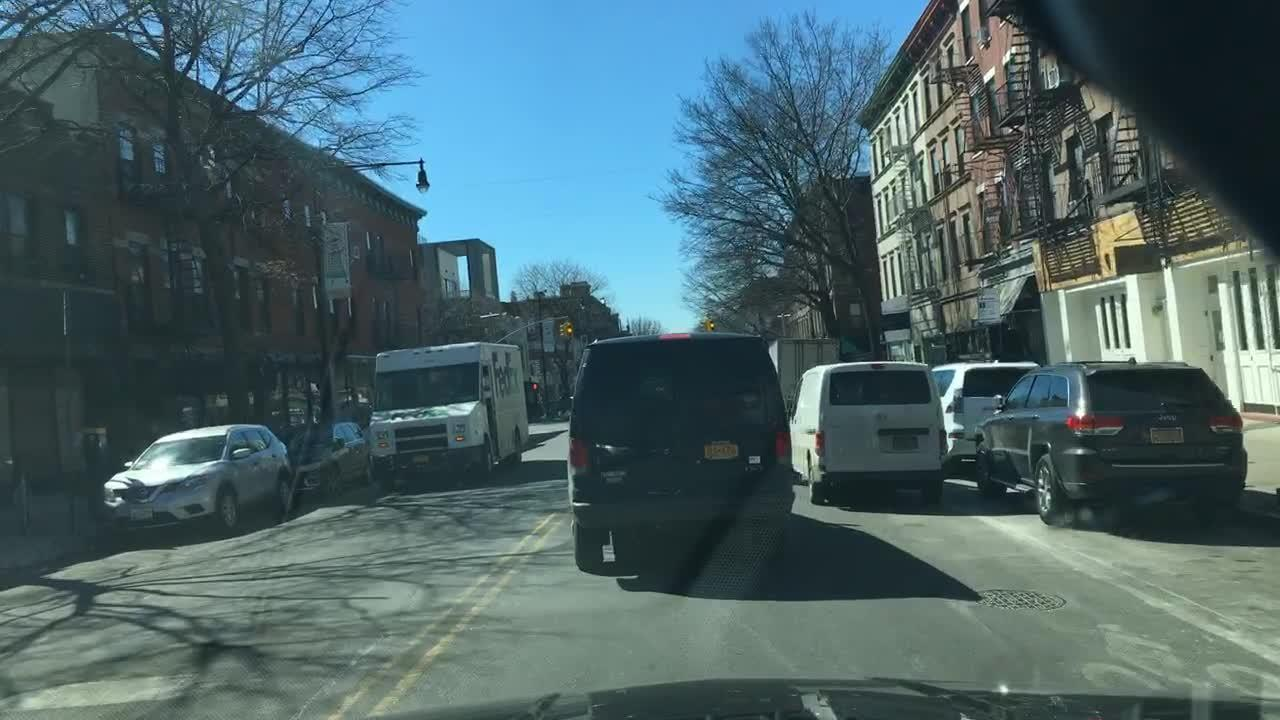jeep: (1152, 407, 1185, 427)
